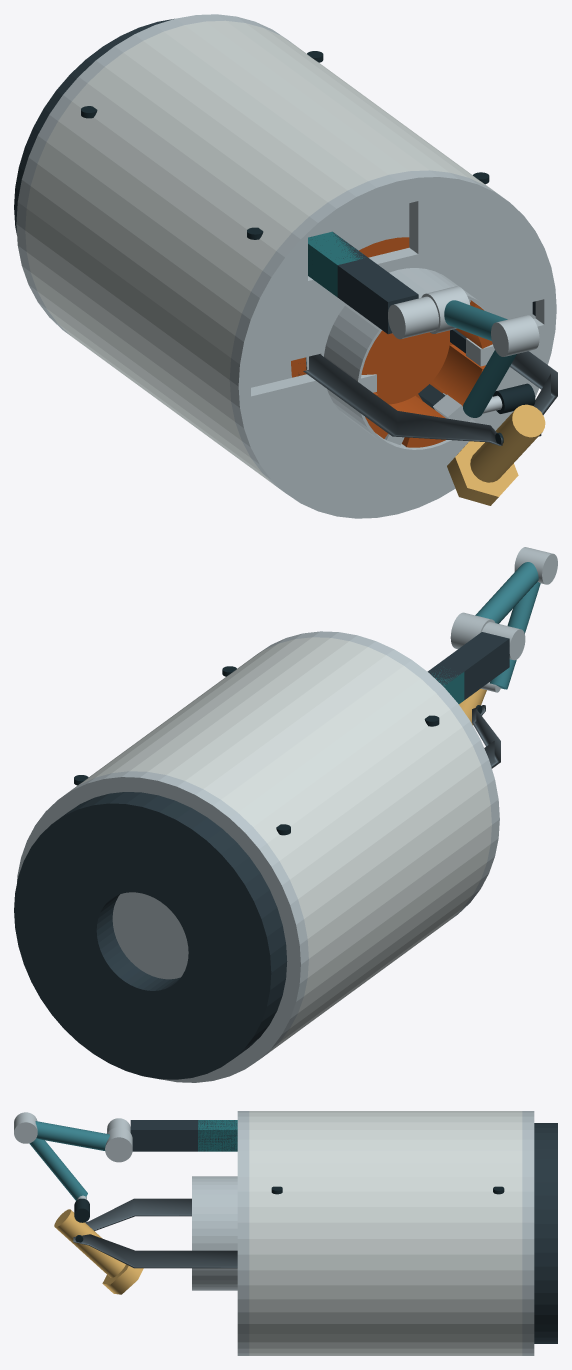
The model's file is m6-r10-gripper.glb.
3 renders of one model, top to bottom at view 1: azimuth 30°, elevation 25°; view 2: azimuth 150°, elevation 25°; view 3: azimuth 270°, elevation 25°, orthographic. The views are drawn at different scales.
Parts seen in each view (by area): view 1: cover-sleeve, front-plate-with-ports, tweezer-blade (×2), slim-nose-tube, held-bolt, rear-bulkhead, chuck-back-disc, thumb-column, feed-yoke, thumb-drive-envelope, robot-adapter-ring, chuck-web-5 (+9 smaller); view 2: cover-sleeve, robot-adapter-ring, rear-bulkhead, front-plate-with-ports, thumb-column, thumb-proximal, thumb-distal, thumb-joint-2, thumb-joint-1, tweezer-blade, thumb-base-axle; view 3: cover-sleeve, robot-adapter-ring, tweezer-blade (×2), slim-nose-tube, front-plate-with-ports, rear-bulkhead, thumb-column, held-bolt, thumb-proximal, thumb-drive-envelope, thumb-distal, thumb-joint-2 (+3 smaller).
Part boxes in pixels (x1=…): cover-sleeve: x1=25, y1=20, x2=497, y2=485; front-plate-with-ports: x1=229, y1=170, x2=556, y2=518; tweezer-blade (×2): x1=303, y1=351, x2=557, y2=445; slim-nose-tube: x1=324, y1=268, x2=501, y2=452; held-bolt: x1=447, y1=404, x2=545, y2=505; rear-bulkhead: x1=16, y1=14, x2=292, y2=335; chuck-back-disc: x1=375, y1=330, x2=453, y2=404; thumb-column: x1=311, y1=232, x2=418, y2=334; feed-yoke: x1=251, y1=203, x2=535, y2=387; thumb-drive-envelope: x1=308, y1=231, x2=364, y2=297; robot-adapter-ring: x1=14, y1=18, x2=174, y2=234; chuck-web-5: x1=432, y1=345, x2=485, y2=406; cover-sleeve: x1=68, y1=637, x2=491, y2=1052; robot-adapter-ring: x1=14, y1=792, x2=287, y2=1079; rear-bulkhead: x1=17, y1=771, x2=308, y2=1082; front-plate-with-ports: x1=252, y1=631, x2=499, y2=918; thumb-column: x1=427, y1=632, x2=509, y2=699; thumb-proximal: x1=475, y1=562, x2=538, y2=623; thumb-distal: x1=490, y1=581, x2=540, y2=689; thumb-joint-2: x1=514, y1=547, x2=557, y2=584; thumb-joint-1: x1=450, y1=612, x2=495, y2=649; tweezer-blade: x1=472, y1=705, x2=500, y2=768; thumb-base-axle: x1=482, y1=622, x2=525, y2=660; cover-sleeve: x1=249, y1=1111, x2=522, y2=1355; robot-adapter-ring: x1=534, y1=1123, x2=557, y2=1343; tweezer-blade (×2): x1=73, y1=1198, x2=237, y2=1268; slim-nose-tube: x1=192, y1=1176, x2=237, y2=1290; front-plate-with-ports: x1=237, y1=1111, x2=249, y2=1355; rear-bulkhead: x1=522, y1=1111, x2=534, y2=1355; thumb-column: x1=130, y1=1120, x2=237, y2=1151; held-bolt: x1=54, y1=1209, x2=143, y2=1294; thumb-proximal: x1=35, y1=1121, x2=109, y2=1150; thumb-drive-envelope: x1=198, y1=1120, x2=237, y2=1151; thumb-distal: x1=29, y1=1138, x2=87, y2=1200; thumb-joint-2: x1=14, y1=1112, x2=37, y2=1143.
Bounding box in the file's own units: 0.062 × 0.062 × 0.1375.
